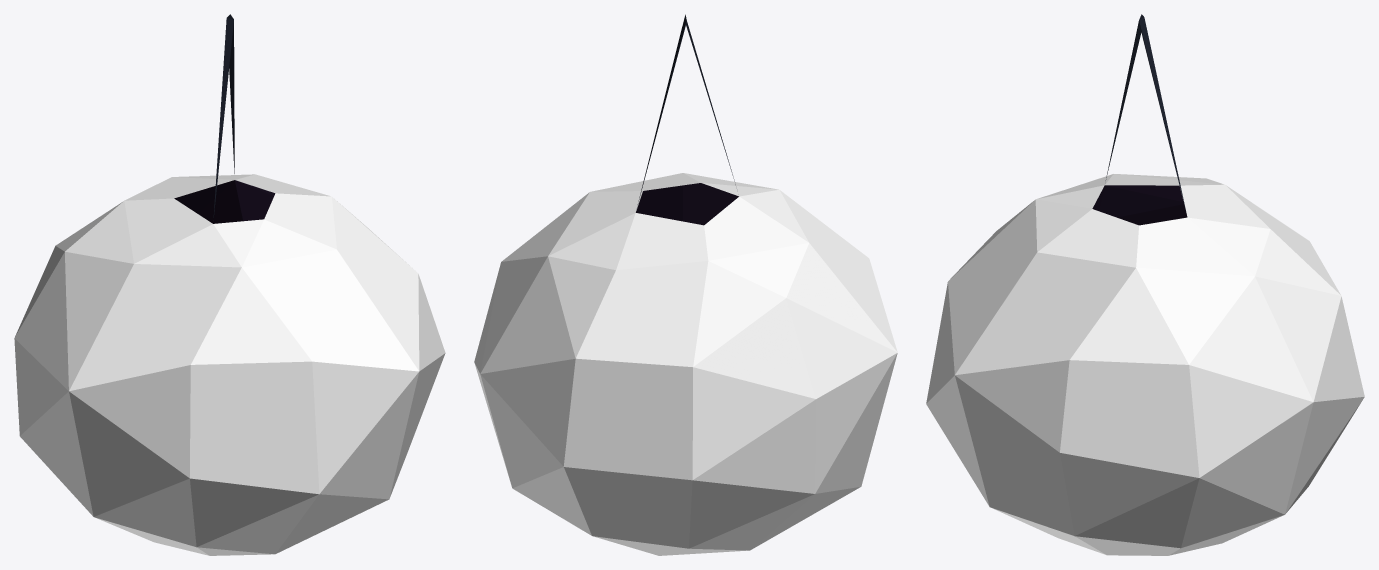
File: Garden_Lantern_Round.fbx
The picture shows the model from 3 angles, left to right: view 1: azimuth 30°, elevation 25°; view 2: azimuth 150°, elevation 25°; view 3: azimuth 270°, elevation 25°; orthographic projection.
Visible parts, largest first — view 1: Sphere.002; view 2: Sphere.002; view 3: Sphere.002.
Boxes of the visible parts, left/top/right/bottom form: Sphere.002: left=14, top=14, right=445, bottom=555; Sphere.002: left=474, top=14, right=897, bottom=555; Sphere.002: left=926, top=14, right=1364, bottom=555.
Size of the model in its own units: 39.57 by 51.28 by 40.43.
